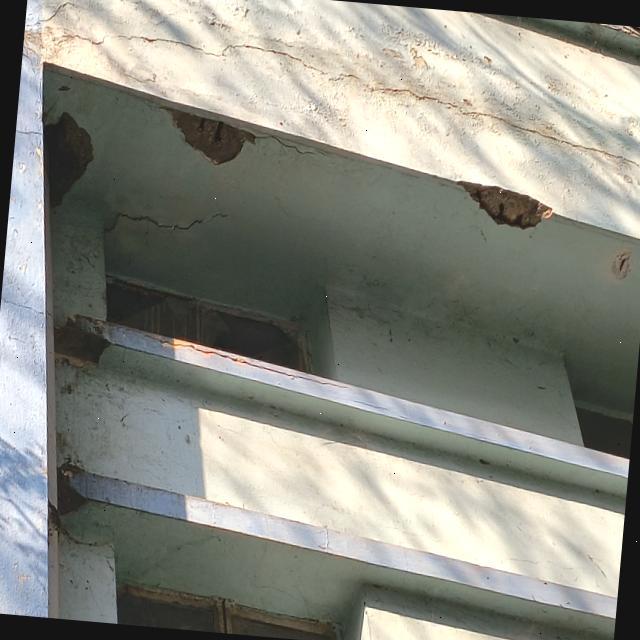Crack: (42, 29, 640, 171), (144, 333, 365, 390), (100, 199, 241, 248), (256, 124, 331, 162)
Paint Peeling: (68, 58, 640, 229), (32, 0, 640, 145)
Spalling: (43, 112, 93, 208), (172, 110, 255, 165), (457, 181, 552, 229), (54, 320, 110, 364), (611, 247, 632, 280)
